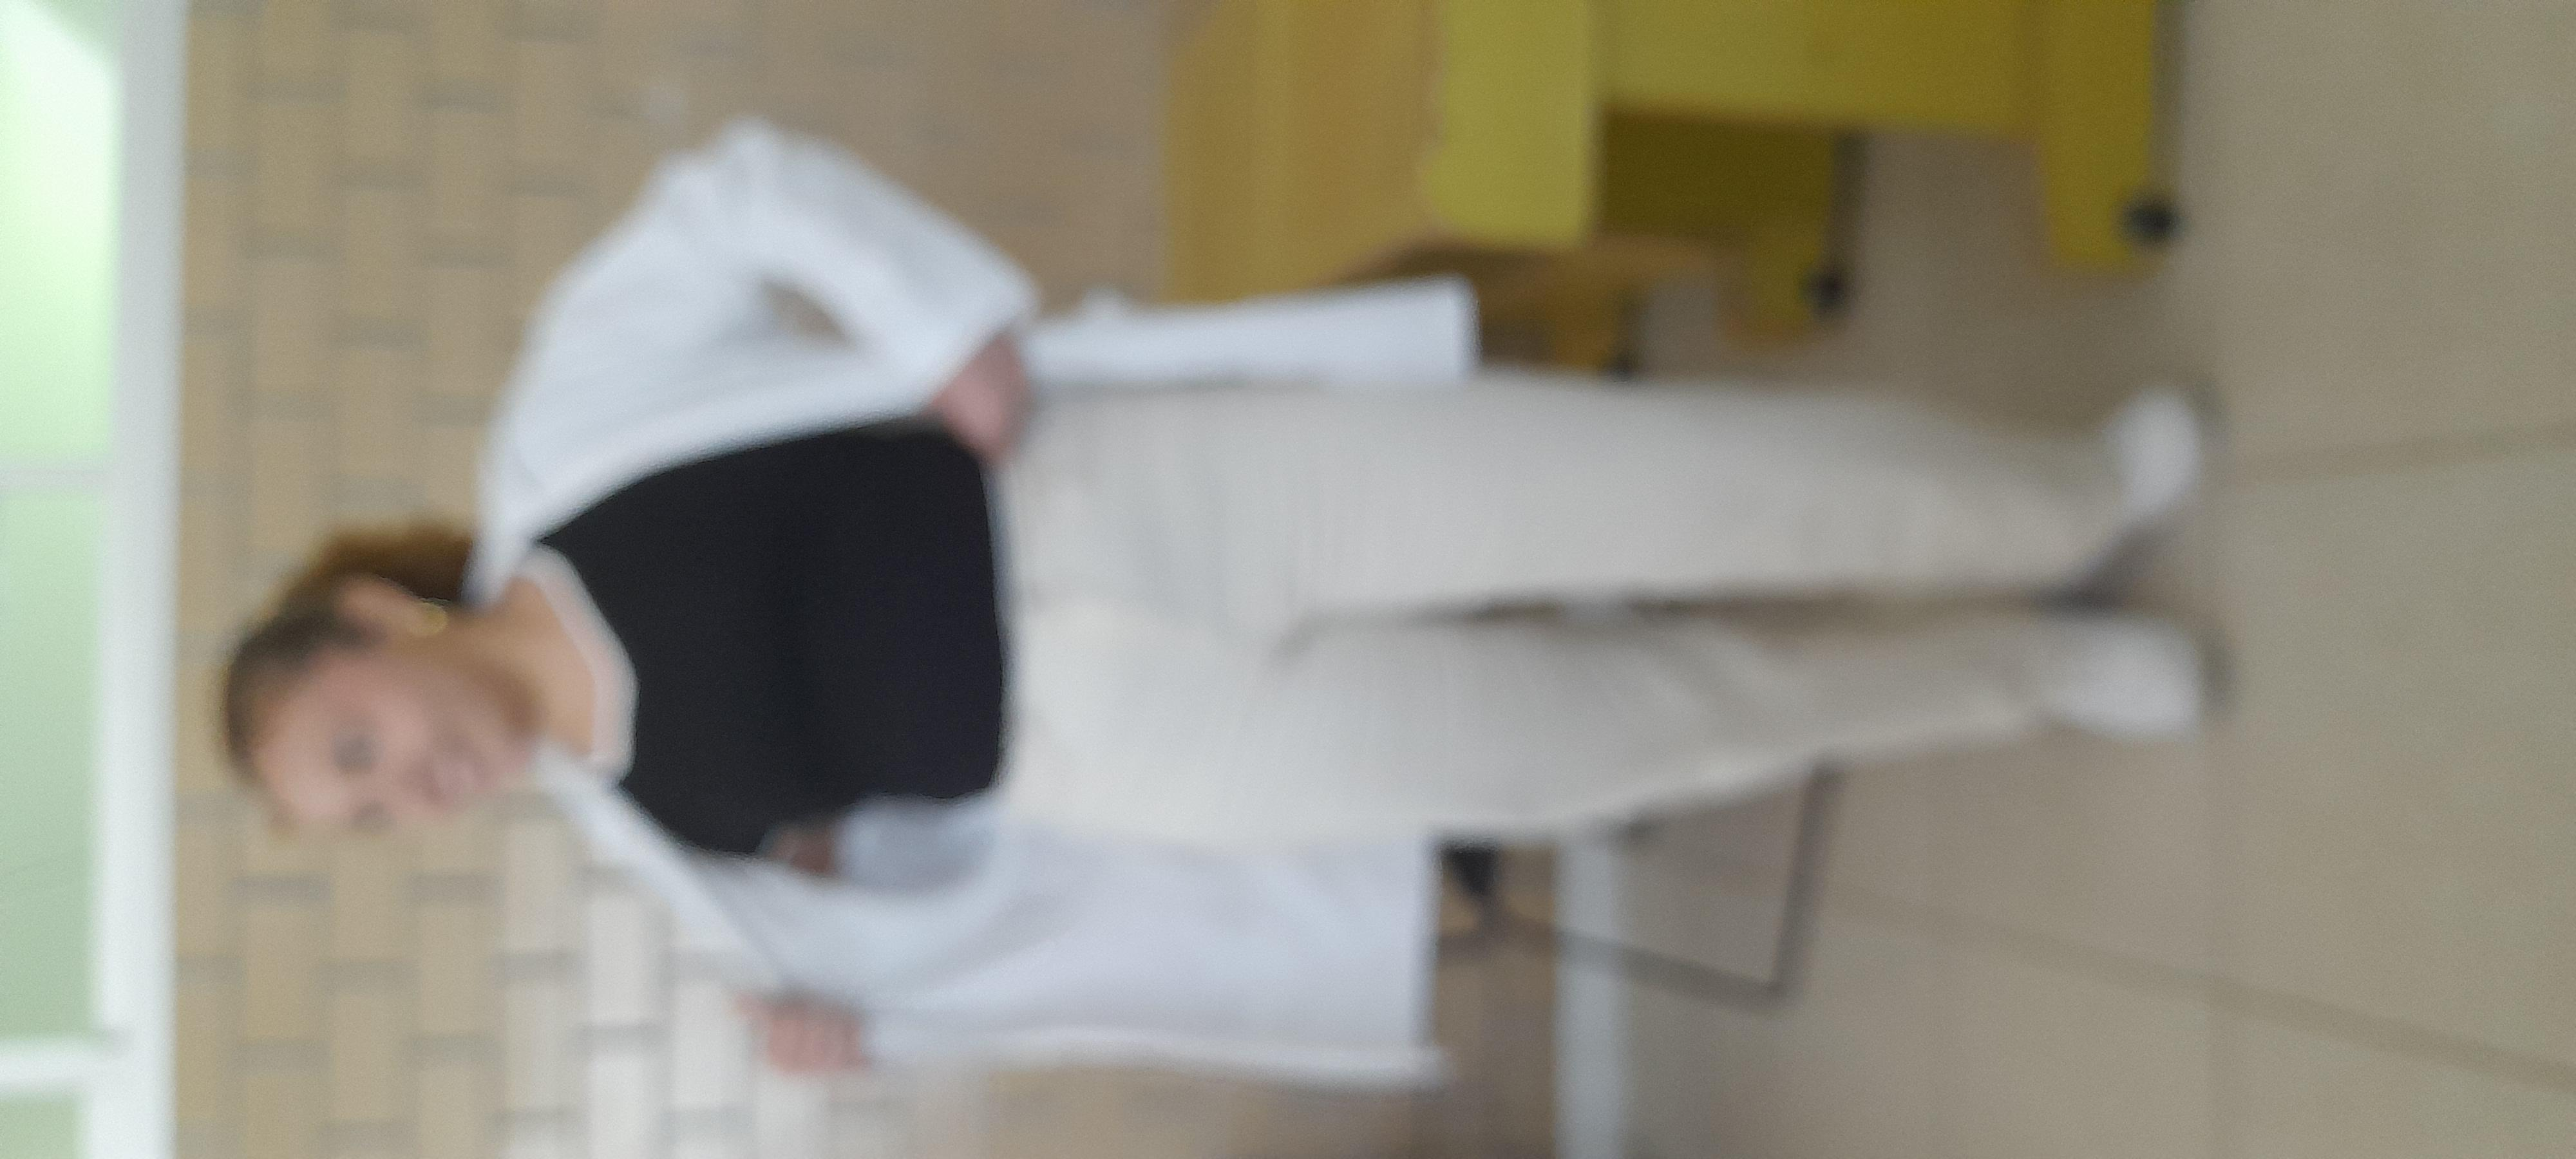Bata-Incorrecta: (100, 87, 2390, 1029)
